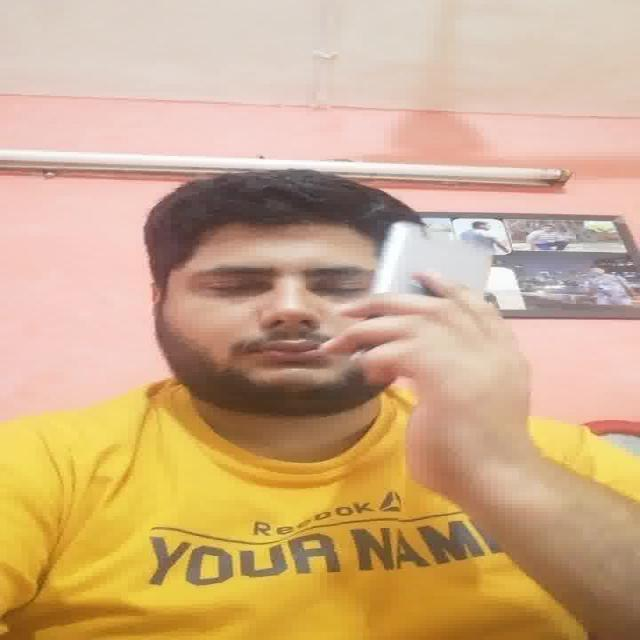Phone: (373, 218, 495, 298)
